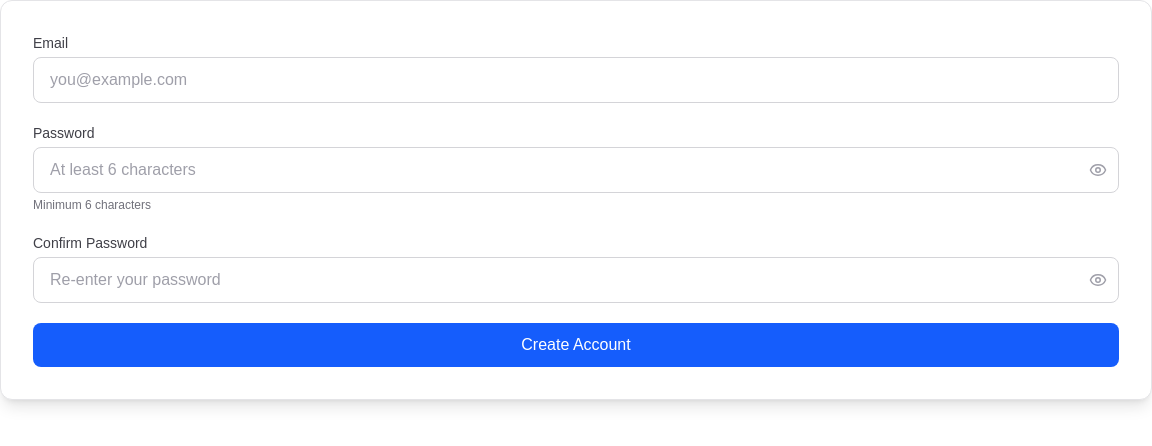
Test: SignupForm › shows a helpful error and blocks submit when passwords do not match
The width and height of the screenshot is (1152, 446).
Type "new-user@example.com" into the field labelled "Email".
click(576, 80); type("new-user@example.com")  # box [33,57,1119,103]
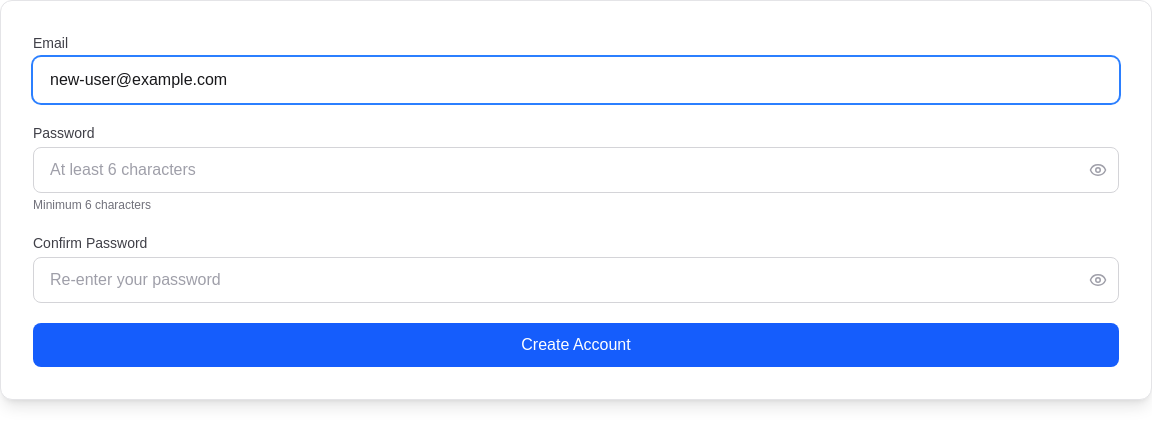
Type "password123" into the password field labelled "Password".
click(576, 170); type("password123")  # box [33,147,1119,193]
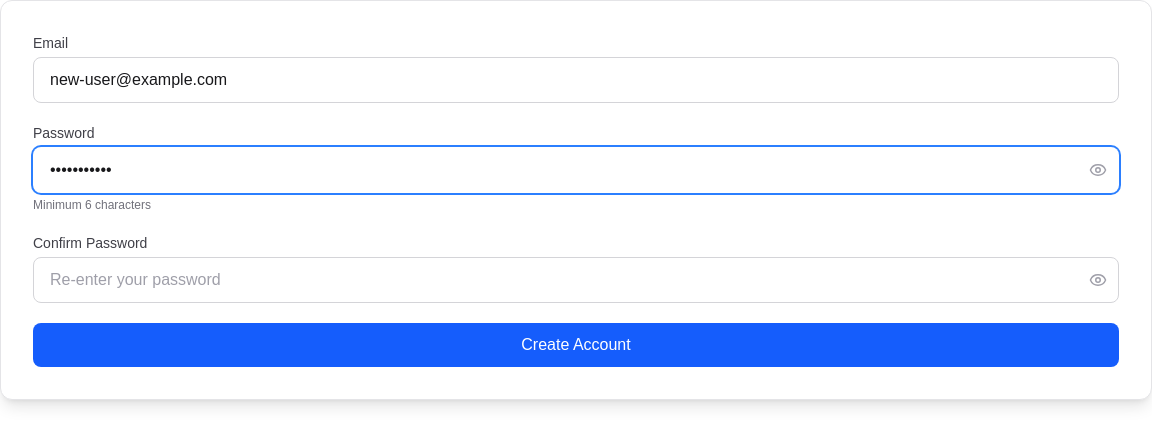
Type "different456" into the password field labelled "Confirm Password".
click(576, 280); type("different456")  # box [33,257,1119,303]
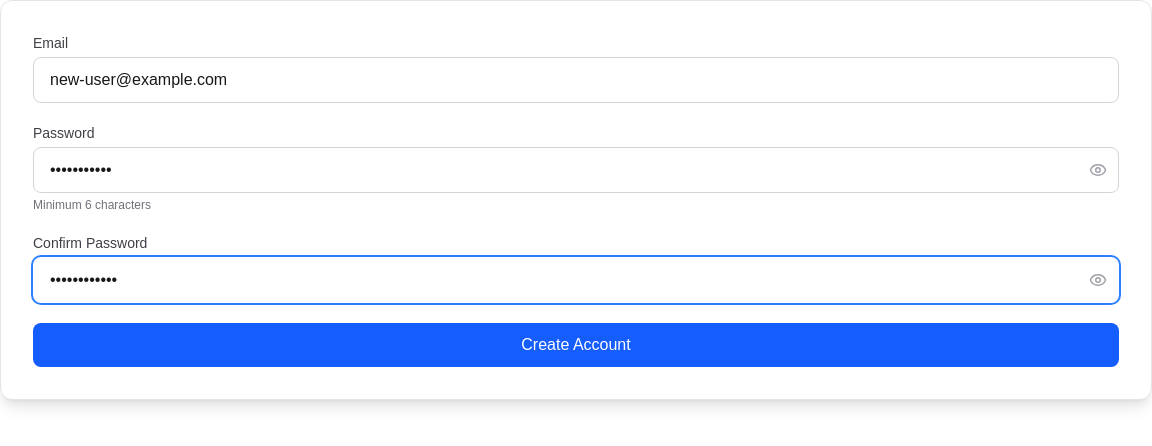
Click the button "Create Account".
click(576, 345)  # box [33,323,1119,367]
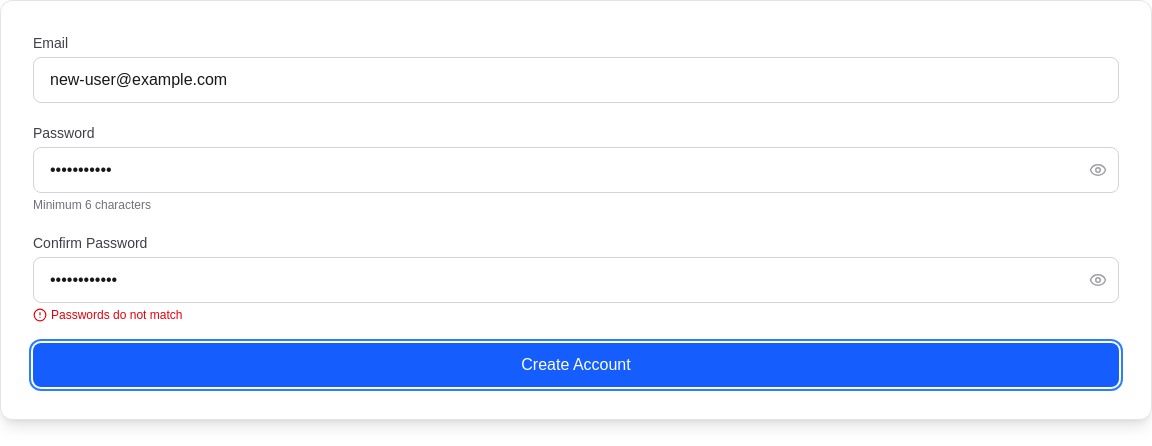
Now the text "Passwords do not match" is shown, box [33,308,182,322]
